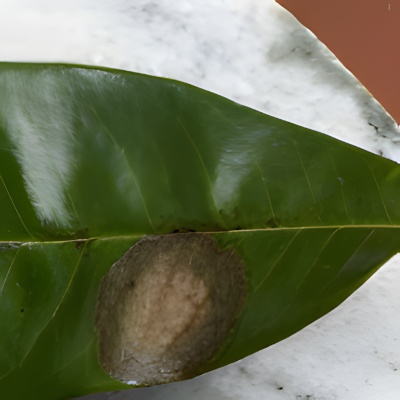Leaf_Rhizoctonia: (0, 48, 400, 395)
